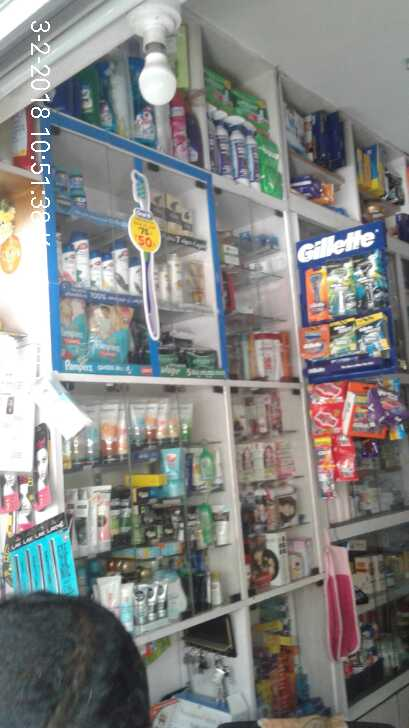beauty: (112, 238, 142, 295), (355, 260, 384, 308), (299, 326, 336, 359), (169, 193, 194, 238), (358, 317, 388, 352), (327, 269, 351, 312), (73, 239, 93, 290), (332, 320, 358, 358), (147, 187, 168, 233), (170, 249, 185, 308), (306, 271, 324, 319), (60, 240, 74, 288), (102, 253, 116, 294), (88, 255, 104, 289), (163, 261, 169, 307)
pharmacy: (88, 301, 130, 366), (52, 170, 97, 210), (60, 298, 87, 361), (186, 346, 226, 378)
